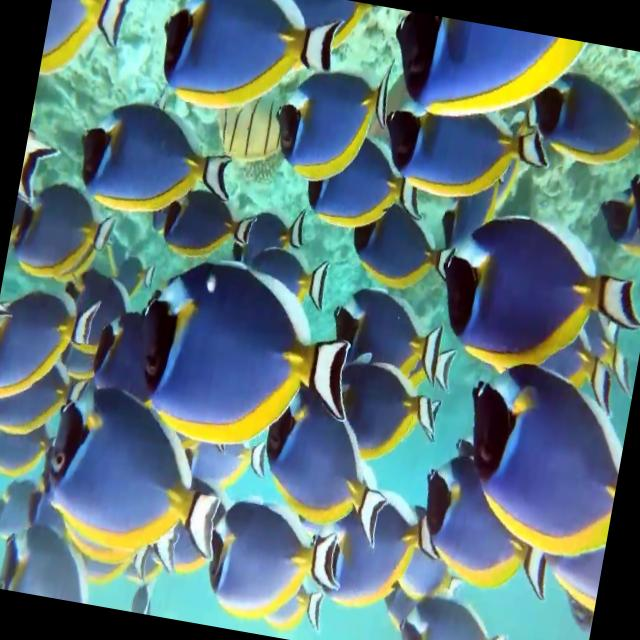fish: (120, 250, 363, 468), (426, 199, 640, 398), (42, 366, 246, 568), (446, 358, 634, 574), (253, 363, 411, 565), (379, 10, 586, 162), (362, 90, 556, 248), (66, 86, 262, 235), (402, 455, 564, 611), (194, 488, 350, 640), (154, 0, 350, 116), (321, 473, 434, 626), (263, 74, 395, 198), (517, 74, 640, 204), (299, 140, 424, 264), (2, 173, 118, 293), (0, 282, 97, 418), (348, 205, 467, 301), (37, 0, 144, 94), (55, 259, 134, 365), (223, 191, 313, 274), (389, 593, 522, 640), (109, 248, 160, 319)
